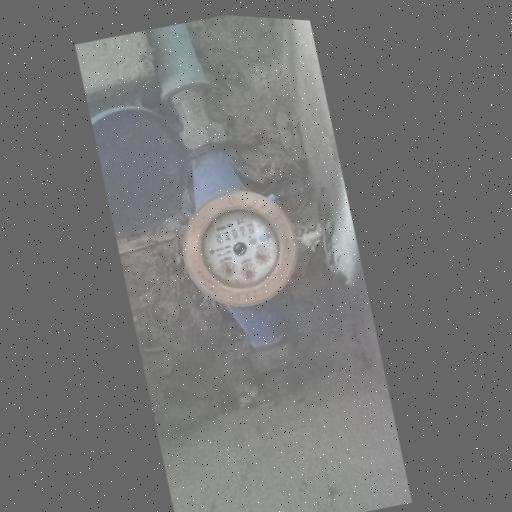0: (213, 232, 223, 245)
4: (220, 229, 231, 243)
5: (244, 222, 255, 236)
7: (237, 225, 247, 238)
9: (228, 226, 239, 239)
border_water_meter_number: (208, 217, 258, 250)
